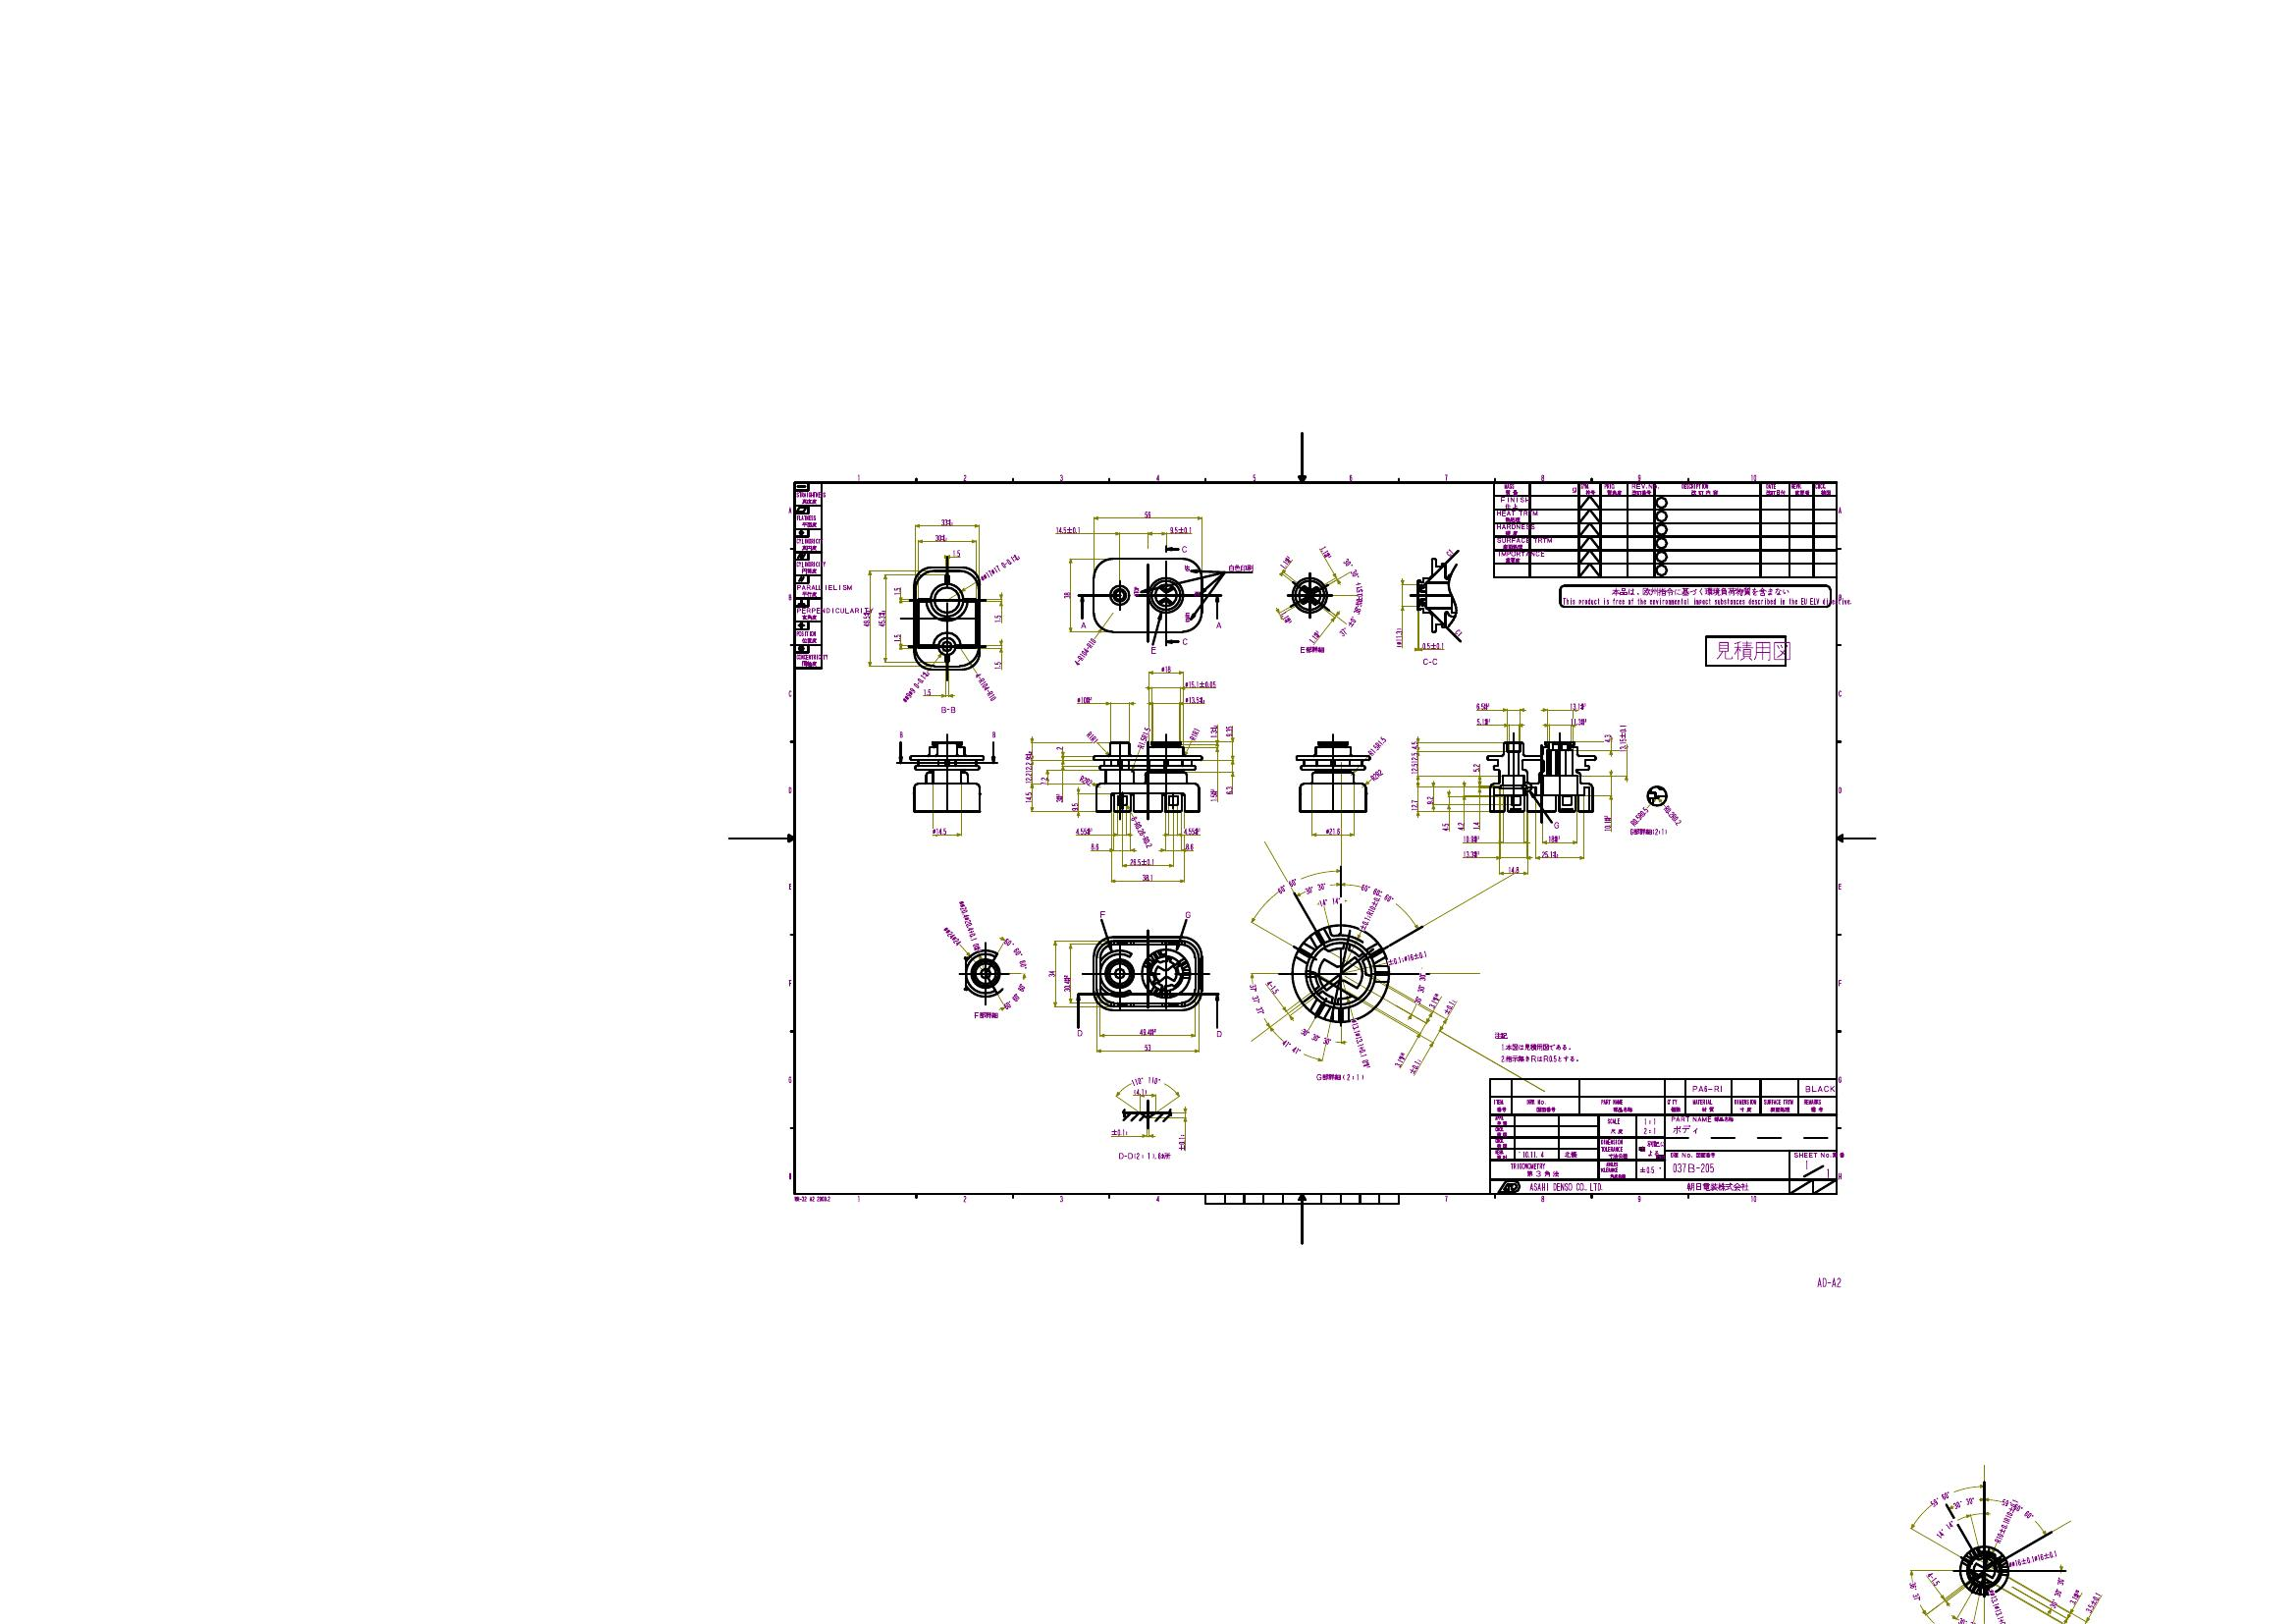anntotation_text: (1558, 584, 1832, 608), (1493, 1030, 1579, 1063), (1704, 634, 1787, 666), (1116, 1151, 1172, 1160), (1314, 1072, 1365, 1081), (1816, 1276, 1843, 1287), (792, 1195, 831, 1202), (1630, 828, 1667, 835), (973, 1011, 1000, 1019), (1298, 645, 1325, 654), (1228, 564, 1254, 571), (940, 707, 957, 714), (1421, 657, 1439, 664), (989, 729, 998, 740), (1214, 620, 1223, 629), (1098, 909, 1107, 917), (1184, 610, 1189, 622), (898, 729, 905, 738), (1180, 545, 1188, 554), (1080, 620, 1087, 629), (1180, 638, 1189, 645), (1151, 647, 1158, 656), (1184, 909, 1191, 917), (1553, 819, 1560, 828), (1216, 1030, 1223, 1037), (1075, 1028, 1082, 1035), (1184, 564, 1189, 571), (1133, 585, 1138, 592)
dimension_text: (1346, 582, 1360, 638), (996, 947, 1036, 958), (1999, 1503, 2034, 1513), (1008, 982, 1021, 1012), (964, 900, 971, 951), (1356, 1018, 1363, 1069), (2008, 1555, 2059, 1562), (1251, 982, 1261, 1014), (2003, 1497, 2010, 1543), (1360, 888, 1395, 896), (1131, 1076, 1159, 1086), (978, 564, 1021, 571), (1298, 1032, 1332, 1040), (1388, 954, 1428, 961), (1976, 1603, 2015, 1610), (912, 666, 919, 705), (1416, 974, 1425, 1004), (2052, 1578, 2061, 1608), (1351, 909, 1388, 916), (1950, 1497, 1975, 1508), (1138, 816, 1145, 849), (1411, 740, 1418, 773), (1024, 750, 1031, 782), (1184, 680, 1216, 687), (1910, 1580, 1920, 1601), (1618, 724, 1627, 749), (1927, 1494, 1952, 1503), (1070, 649, 1100, 656), (970, 684, 1000, 691), (1340, 564, 1363, 573), (1660, 810, 1683, 819), (1318, 898, 1340, 907), (1305, 884, 1326, 893), (1281, 1042, 1302, 1051), (2080, 1598, 2106, 1605), (1054, 526, 1080, 533), (1130, 858, 1154, 865), (1168, 526, 1193, 533), (1395, 626, 1402, 649), (1421, 642, 1444, 649), (1365, 742, 1388, 749), (1934, 1526, 1957, 1533), (1108, 1127, 1126, 1135), (1569, 701, 1586, 710), (1602, 814, 1611, 831), (1462, 849, 1479, 858), (1541, 849, 1558, 858), (1184, 696, 1205, 703), (1277, 882, 1298, 889), (1075, 826, 1091, 835), (1570, 717, 1586, 726), (1407, 1062, 1423, 1070), (1063, 974, 1070, 991), (1138, 1028, 1156, 1035), (1182, 828, 1200, 835), (1268, 977, 1275, 995), (2068, 1592, 2082, 1601), (863, 610, 870, 627), (949, 924, 954, 947), (1325, 826, 1340, 833), (1463, 835, 1479, 842), (1628, 814, 1650, 819), (1391, 1056, 1407, 1063), (1426, 997, 1442, 1004), (1442, 1002, 1458, 1009), (1925, 1575, 1941, 1582), (931, 828, 947, 835), (1209, 789, 1217, 801), (935, 533, 947, 541), (1179, 1132, 1184, 1151), (1133, 1088, 1147, 1095), (1077, 696, 1091, 703), (1209, 724, 1216, 738), (1318, 548, 1332, 555), (1476, 701, 1490, 708), (1476, 717, 1490, 724), (1440, 821, 1449, 831), (1507, 865, 1518, 874), (1140, 874, 1152, 881), (1079, 777, 1091, 784), (1086, 733, 1098, 740), (1224, 724, 1231, 736), (1191, 728, 1198, 740), (1159, 664, 1172, 671), (1309, 633, 1321, 640), (1279, 559, 1291, 566), (1548, 835, 1560, 842), (878, 610, 884, 626), (993, 613, 1001, 622), (1089, 842, 1098, 851), (1054, 793, 1063, 801), (1602, 733, 1611, 742), (952, 548, 961, 557), (1024, 791, 1031, 801), (1224, 784, 1231, 794), (1411, 800, 1418, 810), (1456, 821, 1463, 831), (940, 518, 950, 526), (892, 585, 899, 596), (1370, 772, 1383, 777), (1047, 968, 1054, 977), (1184, 842, 1193, 849), (1072, 801, 1079, 810), (1426, 796, 1433, 805), (1472, 821, 1479, 830), (1472, 763, 1479, 772), (1142, 510, 1151, 517), (892, 633, 899, 642), (922, 689, 931, 696), (993, 661, 1001, 668), (1282, 617, 1293, 622), (1040, 775, 1047, 782), (1063, 591, 1070, 598), (1142, 1044, 1151, 1049), (1056, 745, 1063, 750), (1455, 629, 1462, 634), (1446, 550, 1453, 555), (1959, 1619, 1966, 1624)
object: (1289, 924, 1390, 1023), (1091, 557, 1203, 633), (1091, 935, 1203, 1011), (1091, 742, 1203, 812), (1484, 742, 1597, 812), (912, 566, 980, 671), (908, 742, 984, 814), (1296, 740, 1370, 812), (1959, 1545, 2008, 1596), (964, 949, 1003, 997), (1291, 576, 1326, 613), (1121, 1109, 1172, 1123), (1646, 784, 1667, 807)
title_block: (1488, 1077, 1836, 1193), (1493, 483, 1838, 580), (792, 482, 822, 670)
